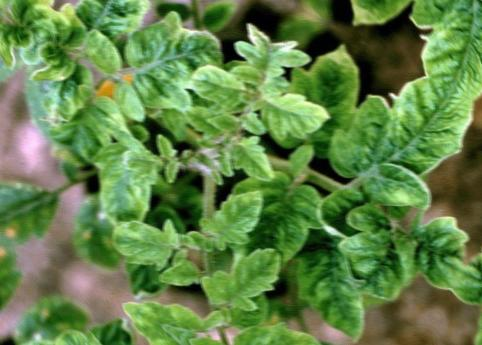Tomato leaf yellow virus: (325, 56, 482, 230), (92, 0, 234, 125), (274, 218, 406, 345), (190, 220, 295, 333), (74, 140, 169, 238), (240, 65, 338, 158), (98, 196, 195, 284), (49, 0, 175, 63), (173, 46, 264, 129)
